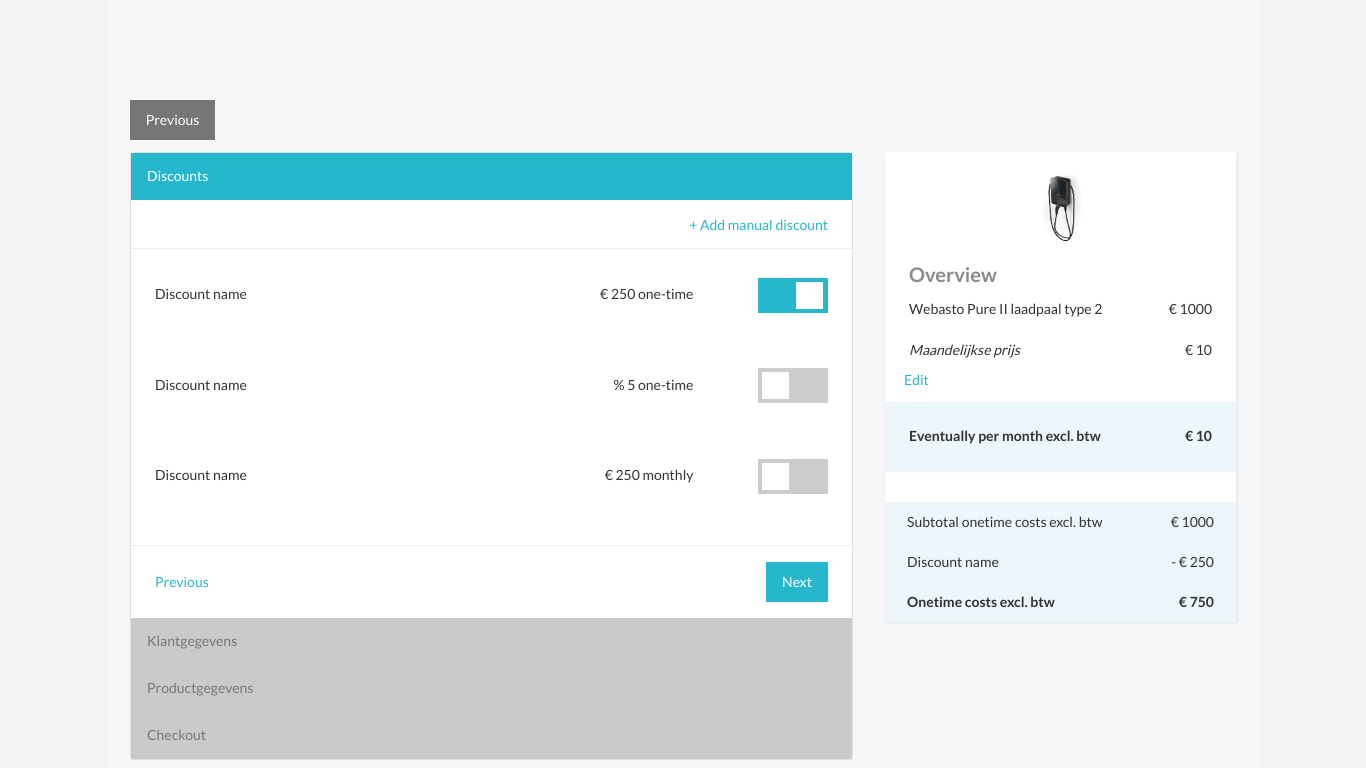
it: DiscountsPage › adds a manual discount
Step 1. Click the button "+ Add manual discount" → click(759, 225), box [689,214,828,236]
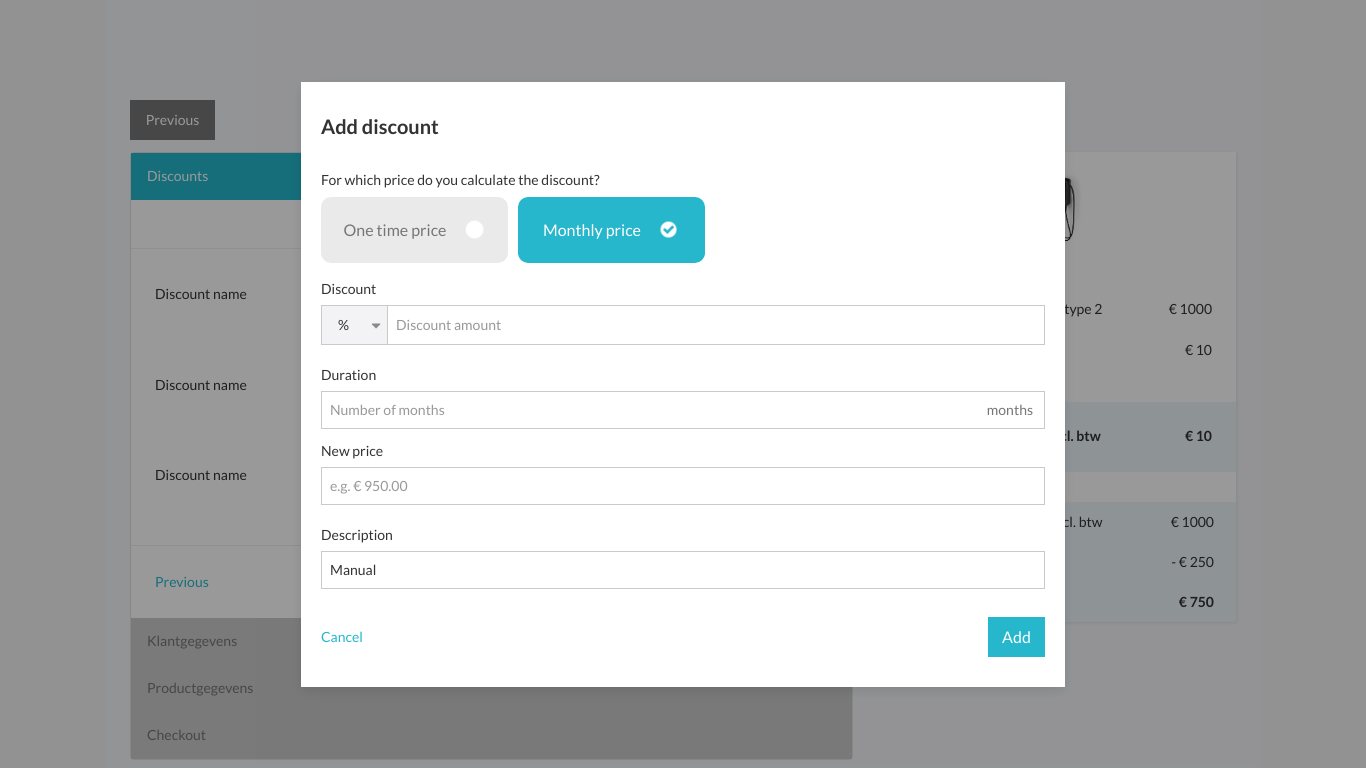
Step 2. Type "10" into the number field with placeholder "Discount amount" → (716, 324), box [388,304,1045,344]
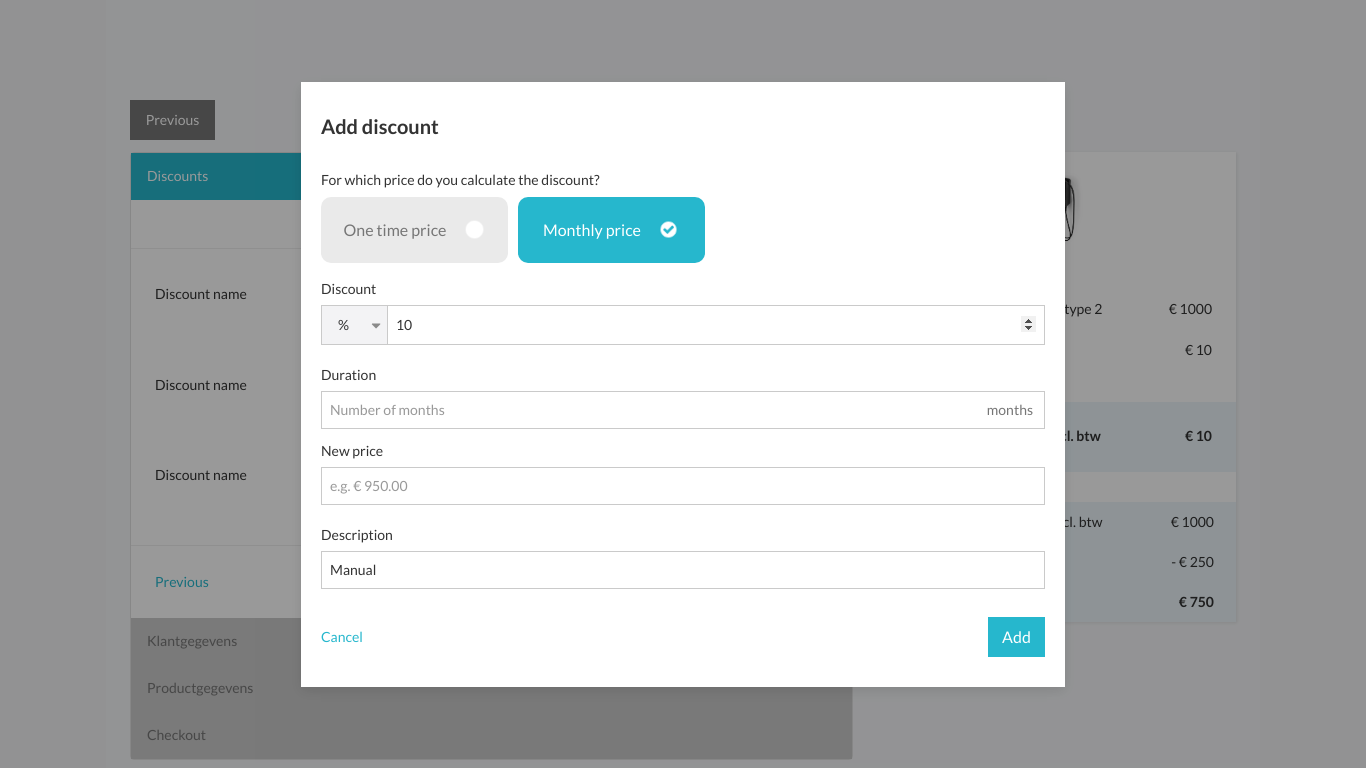
Step 3. Click the button "Add" → click(1016, 636), box [988,616,1045,656]
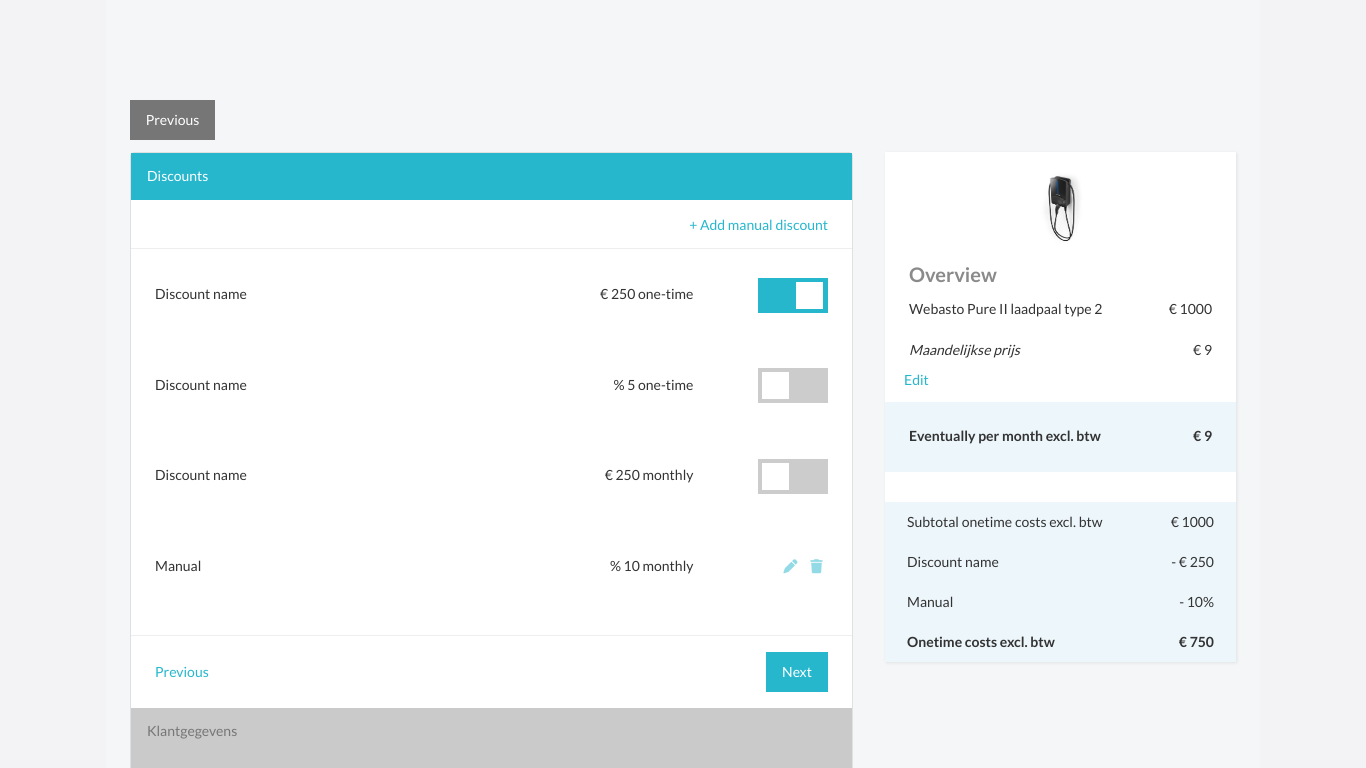
Check: the number of list items is 4, box [155,278,828,313]; [155,368,828,404]; [155,459,828,494]; [155,546,836,586]
Check: the 2nd button named "Delete" is shown, box [797,546,836,586]
